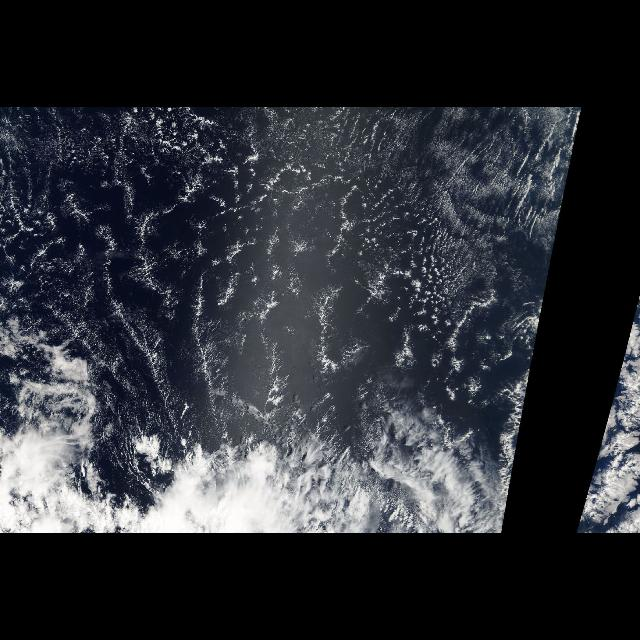Sugar: (278, 107, 584, 287)
